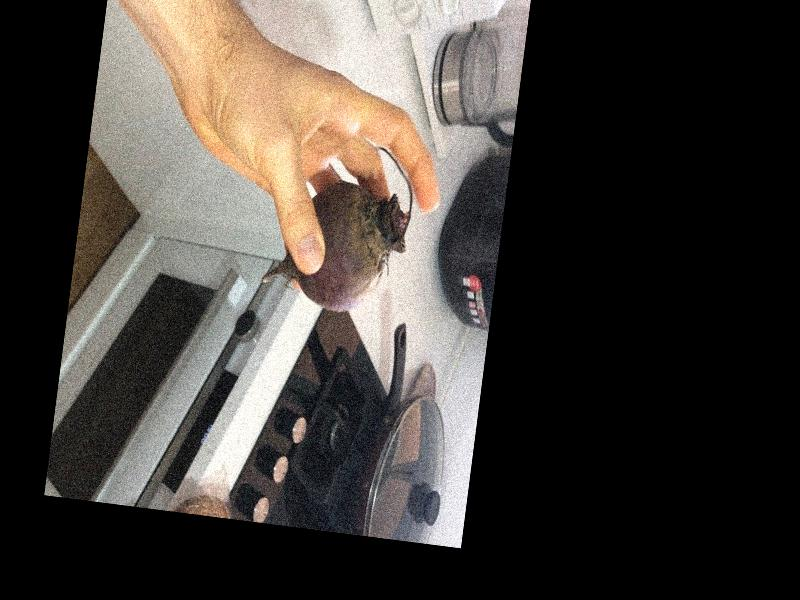Beet: (259, 136, 418, 318)
